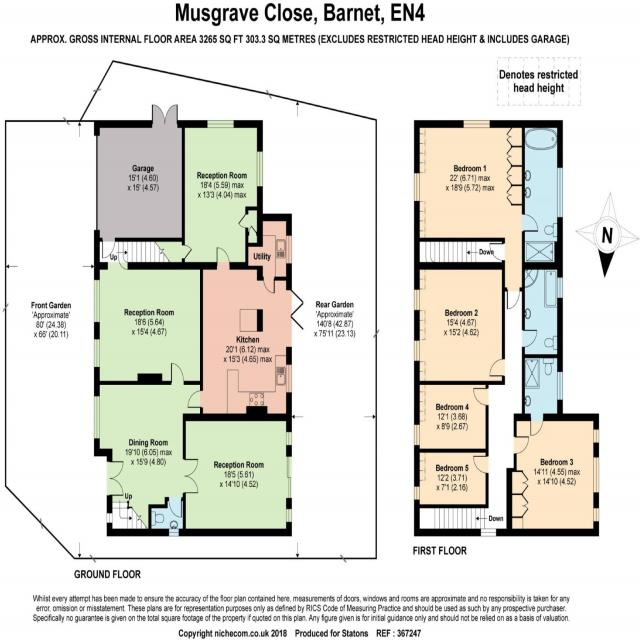DOOR: (521, 213, 539, 233), (216, 246, 231, 270), (530, 413, 544, 437), (506, 287, 520, 310), (513, 436, 529, 455), (473, 455, 489, 474), (473, 387, 489, 406), (489, 358, 505, 377), (522, 329, 538, 348), (489, 242, 505, 261), (168, 497, 182, 518), (263, 276, 275, 294)
DOUBLE DOOR: (183, 455, 200, 496)
ROOM: (414, 120, 539, 310), (187, 246, 305, 421), (94, 361, 203, 537), (93, 262, 204, 385), (182, 413, 292, 537), (181, 120, 263, 270), (506, 413, 599, 537), (414, 262, 505, 385), (414, 381, 489, 453), (414, 448, 489, 509)
SLIDING DOOR: (285, 453, 293, 500)
WINDOW: (93, 395, 100, 440), (557, 167, 563, 218), (207, 119, 234, 129), (94, 279, 100, 323), (256, 151, 263, 187), (463, 119, 490, 128), (593, 457, 599, 493), (413, 288, 421, 311), (557, 371, 563, 401), (414, 172, 420, 202), (94, 338, 100, 368), (286, 364, 292, 393), (286, 235, 292, 264), (413, 424, 420, 446), (413, 340, 420, 362), (480, 528, 497, 537), (557, 277, 563, 299), (413, 486, 420, 501), (168, 528, 179, 537), (593, 429, 599, 444), (286, 508, 292, 523), (286, 431, 292, 446), (593, 508, 599, 522), (106, 513, 113, 524)
